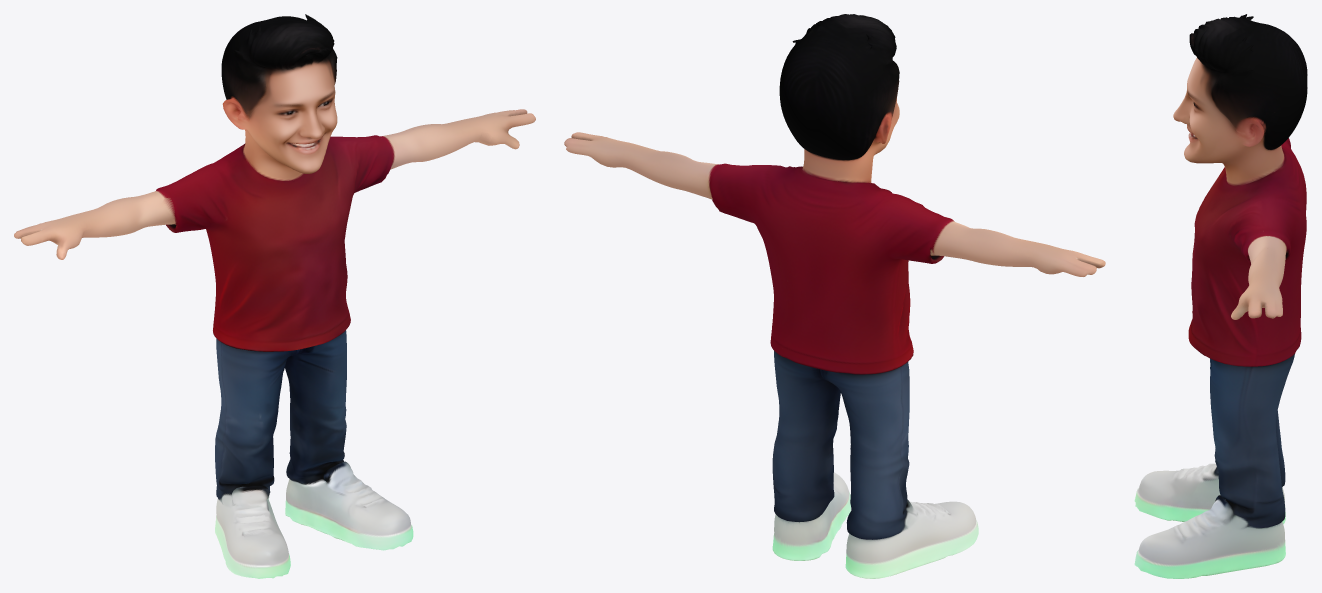
File: base_basic_shaded.fbx
3 views of the same model, side by side, from view 1: azimuth 30°, elevation 25°; view 2: azimuth 150°, elevation 25°; view 3: azimuth 270°, elevation 25° (orthographic). The views are drawn at different scales.
Parts seen in each view (by area): view 1: model; view 2: model; view 3: model.
Part boxes in pixels (left/top/right/bottom): model: left=14, top=14, right=535, bottom=578; model: left=564, top=14, right=1105, bottom=578; model: left=1134, top=14, right=1307, bottom=578.
Size of the model in its own units: 178 by 168 by 51.38.
